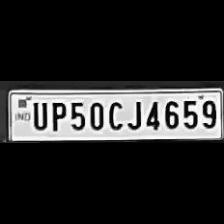0: (86, 99, 106, 131)
4: (142, 98, 160, 130)
5: (66, 99, 86, 131), (180, 96, 198, 130)
6: (160, 98, 180, 130)
9: (198, 97, 218, 129)
C: (104, 97, 124, 130)
J: (125, 97, 143, 130)
P: (47, 98, 66, 132)
U: (28, 99, 48, 131)
